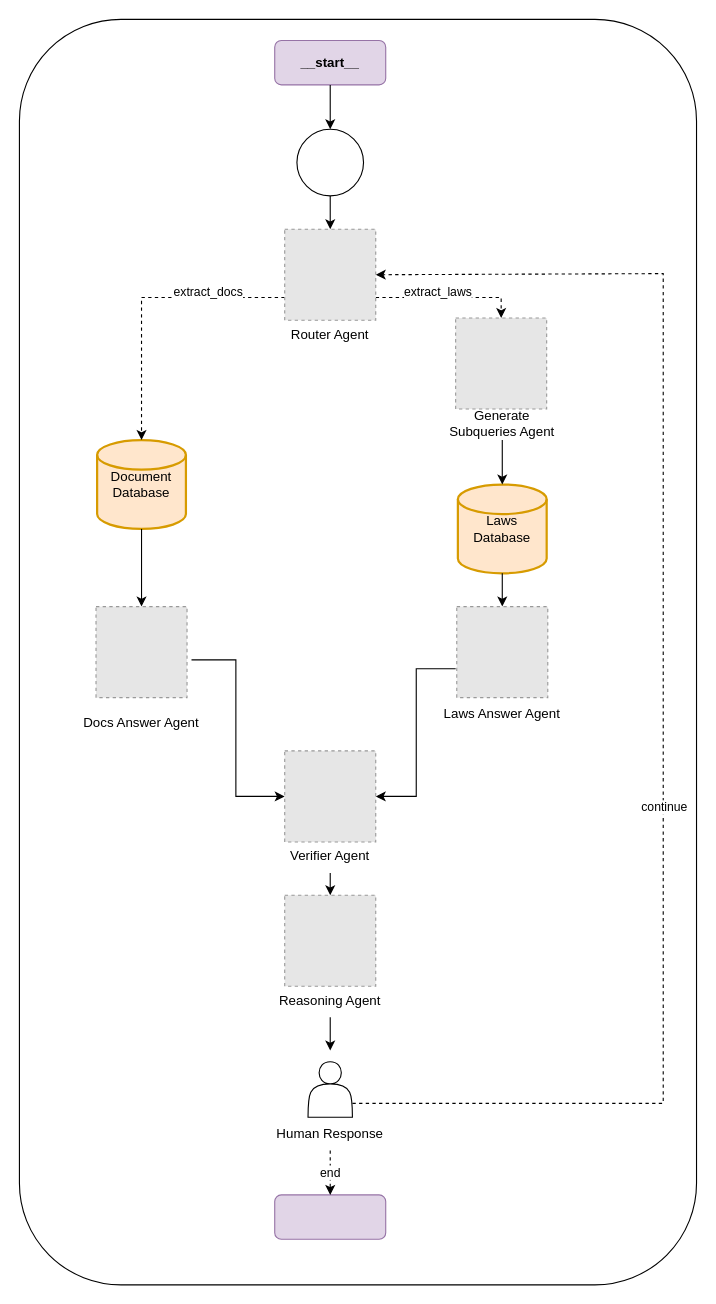
The diagram is 716 pixels wide and 1304 high, and some of its shapes have lost their labels. Grey dashed boxes stand in for pictures. The centre of each missing label's shape, as x and y in pixels:
"__end__" goes at point 330,1216.
"Setup Node" goes at point 330,162.
